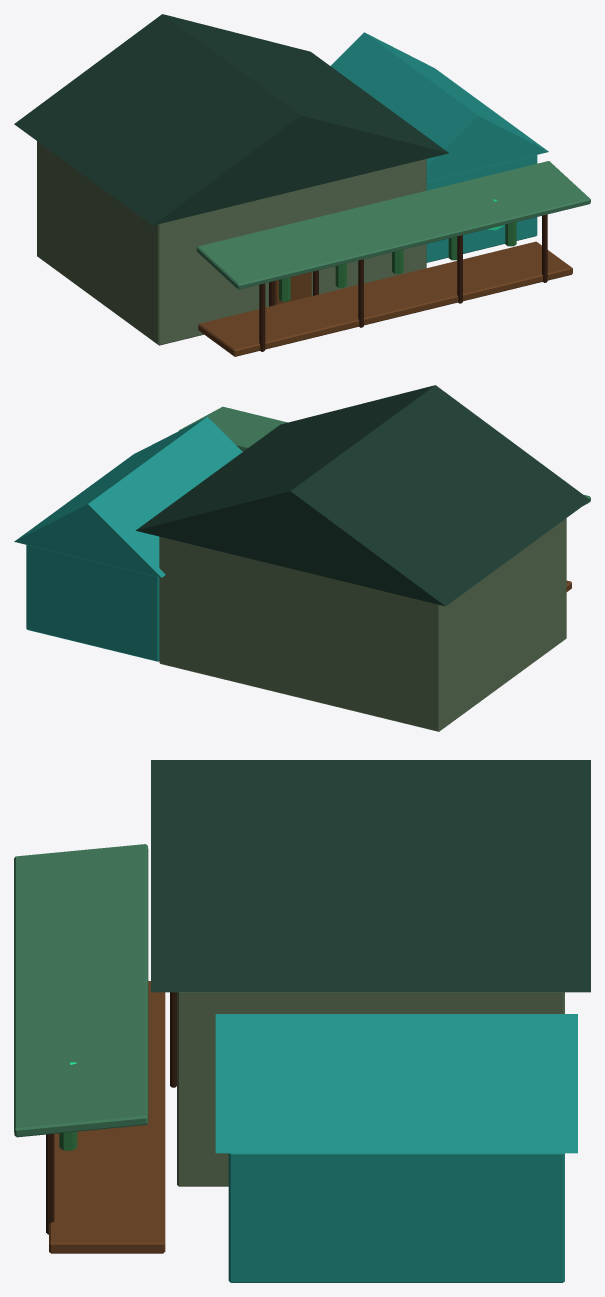
Rendered from LumenHealerLodgeV2.glb.
3 views of the same model, one above another, from view 1: azimuth 30°, elevation 25°; view 2: azimuth 150°, elevation 25°; view 3: azimuth 270°, elevation 25° (orthographic). The views are drawn at different scales.
Parts seen in each view (by area): view 1: LumenHealerLodgeV2; view 2: LumenHealerLodgeV2; view 3: LumenHealerLodgeV2.
Part boxes in pixels (x1,y1,x2,y2): LumenHealerLodgeV2: (14, 14, 590, 356); LumenHealerLodgeV2: (14, 385, 590, 731); LumenHealerLodgeV2: (14, 760, 590, 1282).
Bounding box in the file's own units: 29.5 × 13.8 × 22.3.
Materials: 1 (1 with a texture image).
